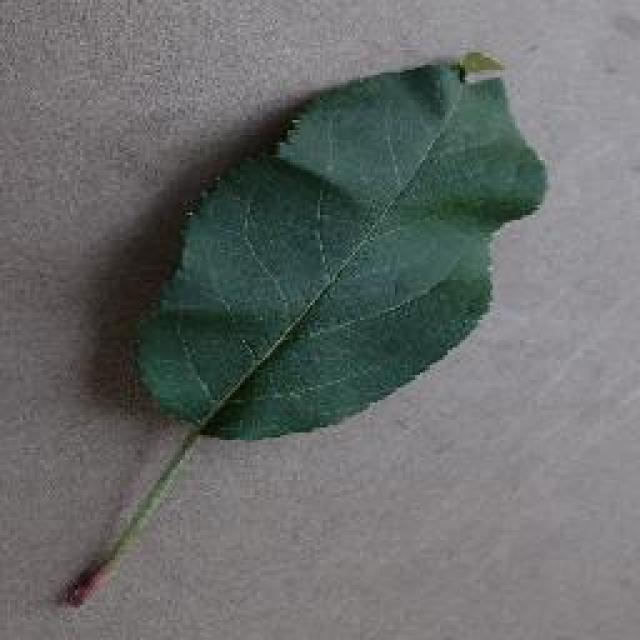apple healthy: (52, 45, 550, 607)
